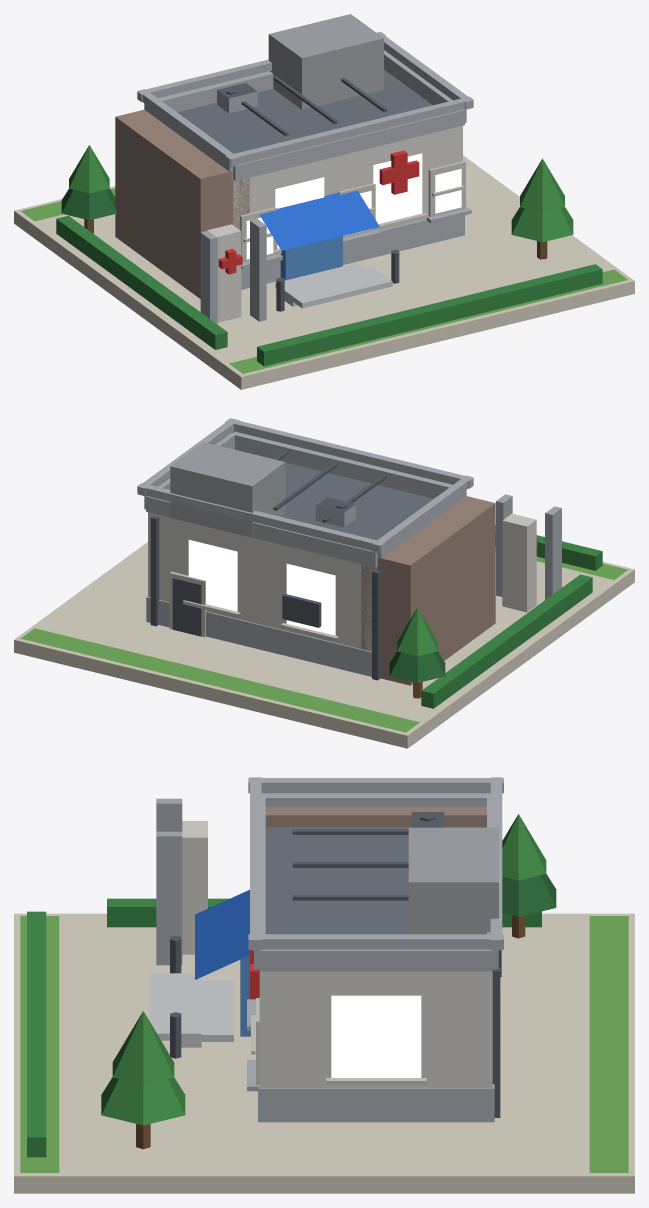
The picture shows the model from 3 angles, top to bottom: view 1: azimuth 30°, elevation 25°; view 2: azimuth 150°, elevation 25°; view 3: azimuth 270°, elevation 25°; orthographic projection. The views are drawn at different scales.
Visible parts, largest first — view 1: b26; view 2: b26; view 3: b26.
Part boxes in pixels (x1=…): b26: x1=14, y1=14, x2=634, y2=389; b26: x1=14, y1=418, x2=634, y2=748; b26: x1=14, y1=777, x2=634, y2=1193.
Bounding box in the file's own units: 0.96 × 0.41 × 0.96.
